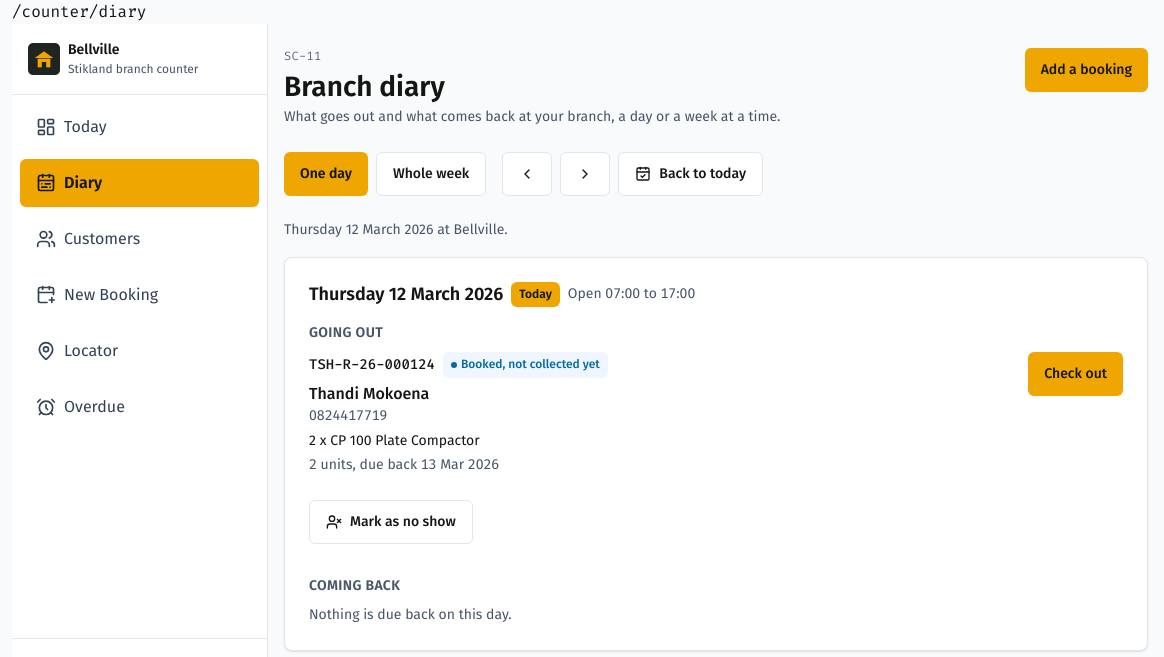
the question › puts the question away on "Keep the booking", and focus goes back to the button
Step 1. Click the button "Mark as no show" → (391, 522), box [309,500,473,544]
(page scrolled)
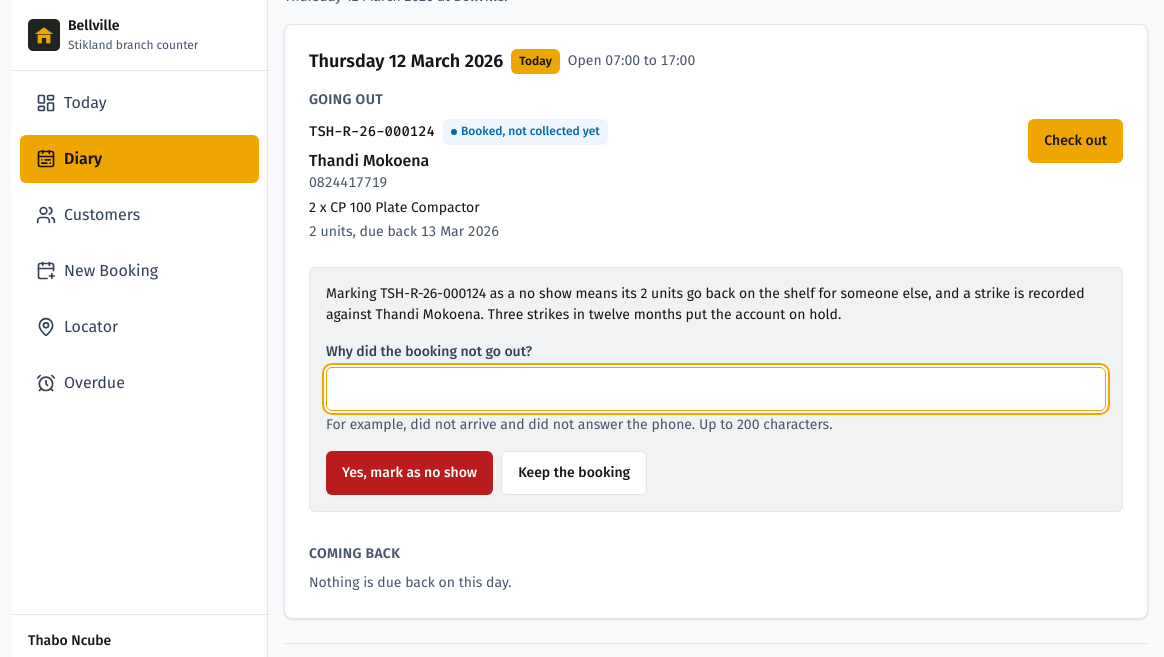
Step 2. Click the button "Keep the booking" → (574, 473), box [501,451,647,495]
(page scrolled)
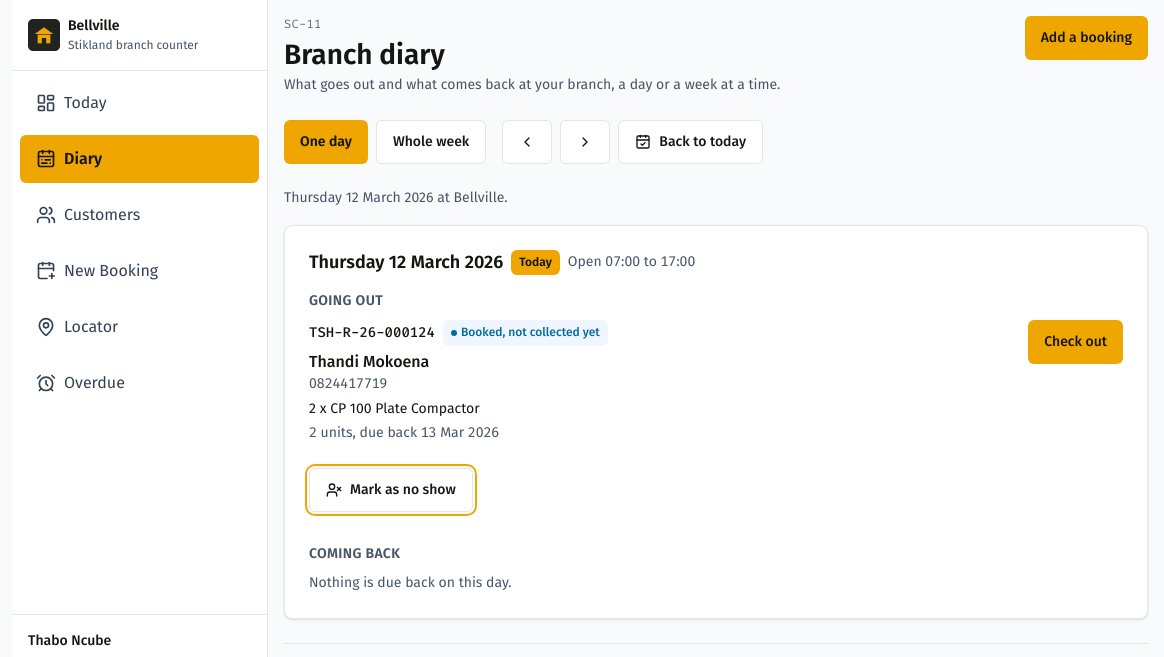
Now the label labelled "Why did the booking not go out?" is gone
